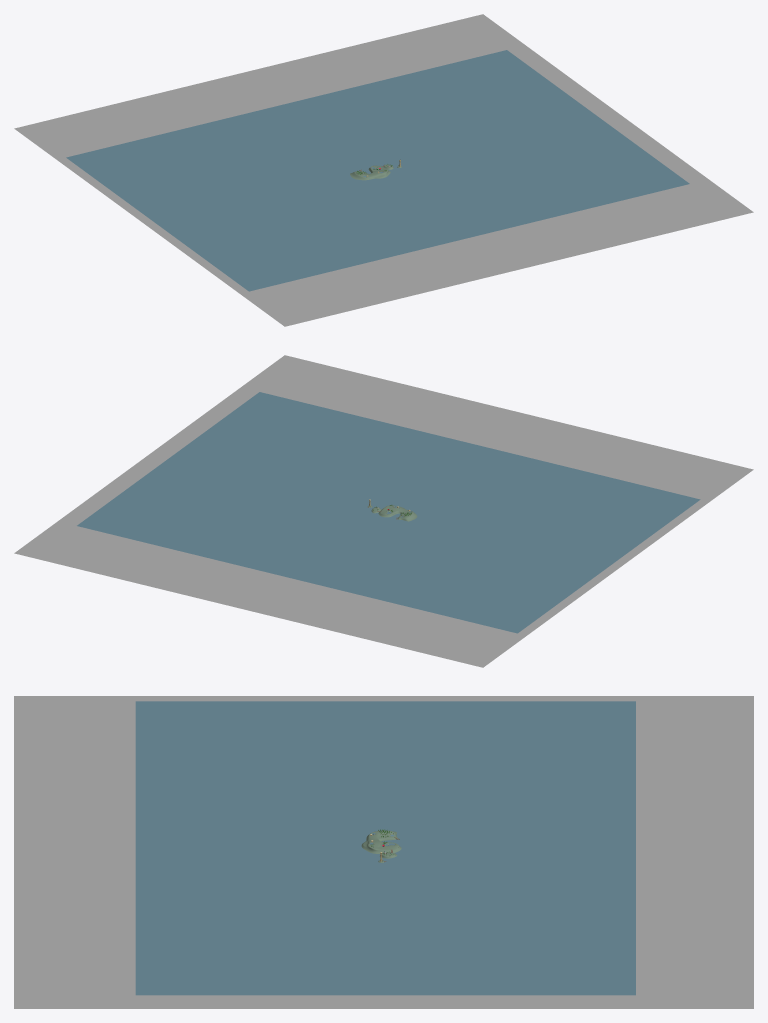
Rendered from IM_MapMesh.fbx.
The picture shows the model from 3 angles, top to bottom: view 1: azimuth 30°, elevation 25°; view 2: azimuth 150°, elevation 25°; view 3: azimuth 270°, elevation 25°; orthographic projection. The views are drawn at different scales.
Parts seen in each view (by area): view 1: Ocean, OceanFloor; view 2: Ocean, OceanFloor; view 3: Ocean, OceanFloor, MainIslandGround.
Boxes of the visible parts, x1=… form: Ocean: x1=66, y1=50, x2=689, y2=291; OceanFloor: x1=14, y1=14, x2=753, y2=326; Ocean: x1=77, y1=392, x2=700, y2=633; OceanFloor: x1=14, y1=355, x2=753, y2=667; Ocean: x1=135, y1=701, x2=635, y2=995; OceanFloor: x1=14, y1=696, x2=753, y2=1008; MainIslandGround: x1=361, y1=830, x2=401, y2=853.
Bounding box in the file's own units: 178692 × 3202 × 178692.
